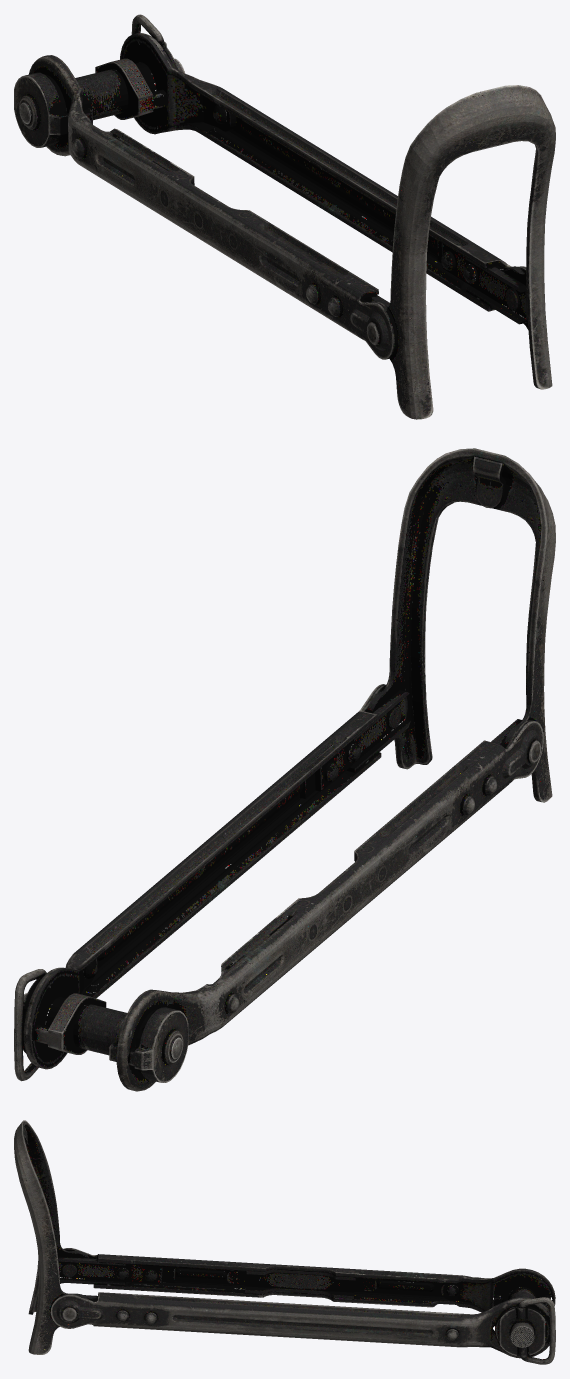
3 views of the same model, one above another, from view 1: azimuth 30°, elevation 25°; view 2: azimuth 150°, elevation 25°; view 3: azimuth 270°, elevation 25° (orthographic). The views are drawn at different scales.
Parts seen in each view (by area): view 1: TW_59ff3b6a86f77477562ff5ed_PZ_Import; view 2: TW_59ff3b6a86f77477562ff5ed_PZ_Import; view 3: TW_59ff3b6a86f77477562ff5ed_PZ_Import.
Boxes of the visible parts, x1=… form: TW_59ff3b6a86f77477562ff5ed_PZ_Import: x1=14, y1=14, x2=555, y2=419; TW_59ff3b6a86f77477562ff5ed_PZ_Import: x1=14, y1=448, x2=555, y2=1091; TW_59ff3b6a86f77477562ff5ed_PZ_Import: x1=14, y1=1120, x2=555, y2=1364.
Bounding box in the file's own units: 0.039 × 0.1708 × 0.0763.
1 material, 1 textured.
